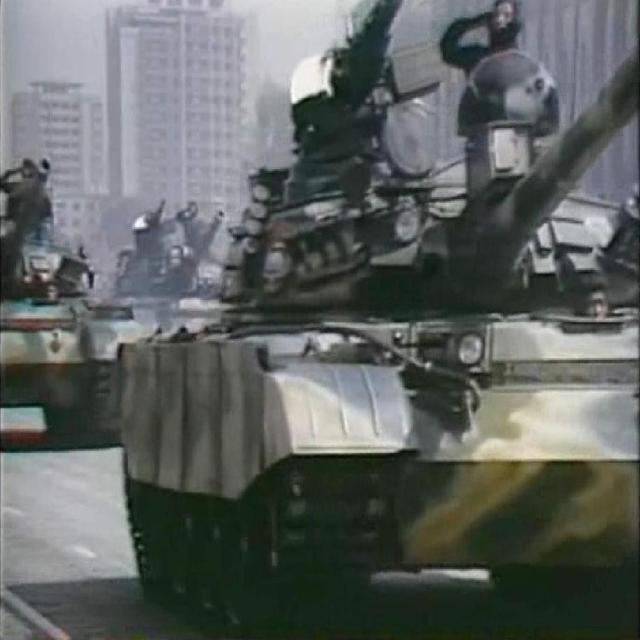north tank: (116, 0, 640, 640), (0, 152, 154, 474)
